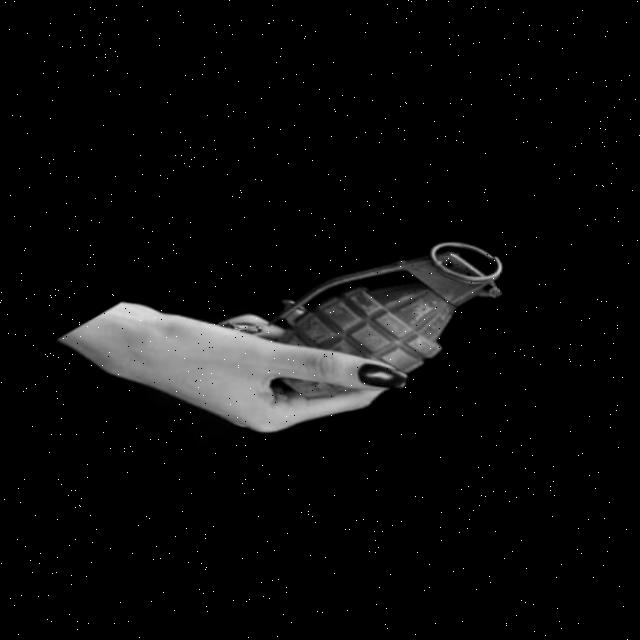grenade: (237, 219, 515, 430)
